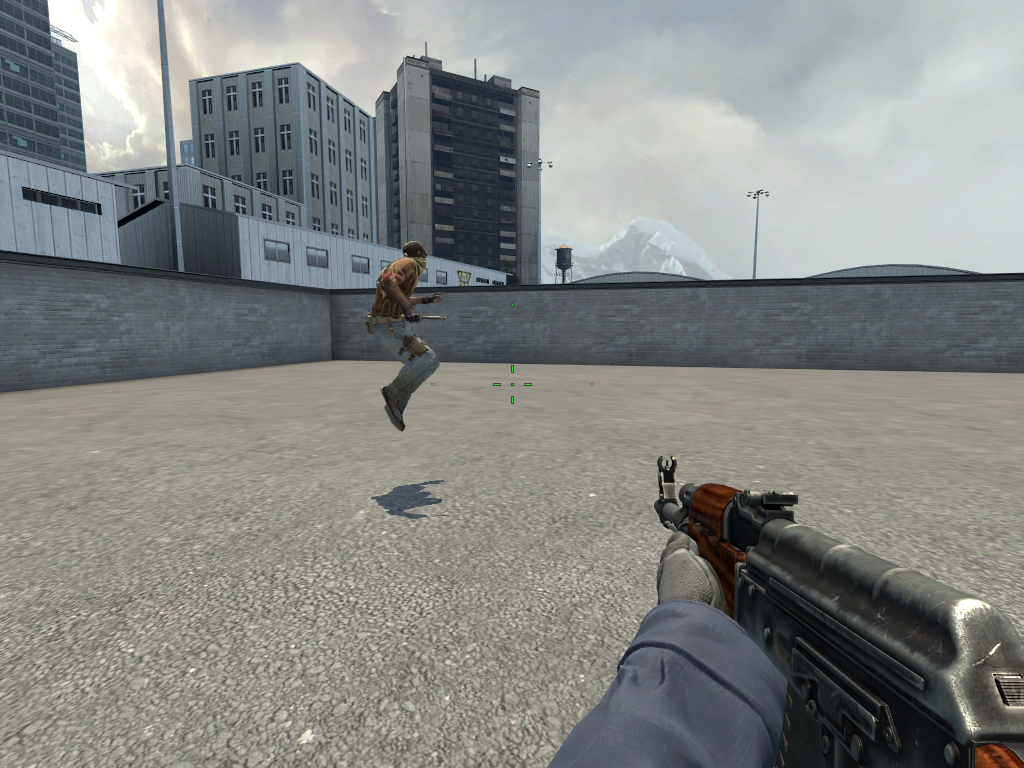tr head: (398, 237, 433, 273)
